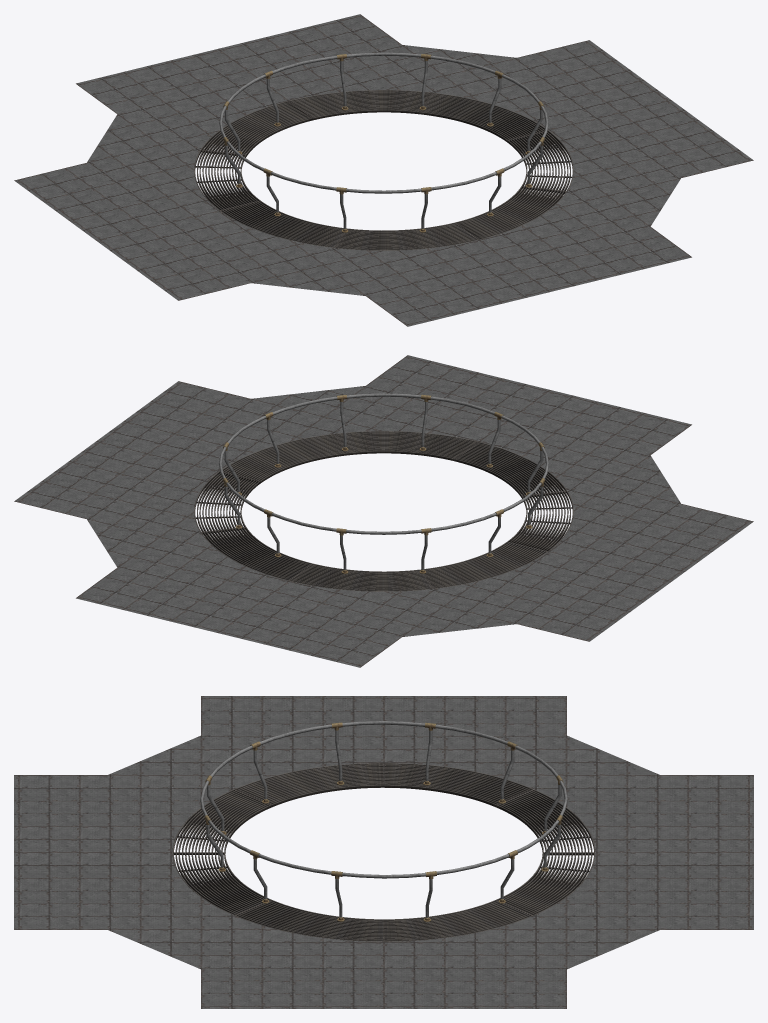
File: 04_02_reactor_room_floor.dae
The picture shows the model from 3 angles, top to bottom: view 1: azimuth 30°, elevation 25°; view 2: azimuth 150°, elevation 25°; view 3: azimuth 270°, elevation 25°; orthographic projection. The views are drawn at different scales.
Visible parts, largest first — view 1: pPlane1, polySurface381, polySurface286; view 2: pPlane1, polySurface381, polySurface286; view 3: pPlane1, polySurface381, polySurface286.
Part boxes in pixels (x1,y1,x2,y2): pPlane1: [14, 14, 753, 326]; polySurface381: [194, 90, 573, 250]; polySurface286: [219, 52, 548, 232]; pPlane1: [14, 355, 753, 667]; polySurface381: [194, 431, 573, 591]; polySurface286: [219, 393, 548, 573]; pPlane1: [14, 696, 753, 1008]; polySurface381: [172, 763, 595, 941]; polySurface286: [200, 721, 567, 921].
Size of the model in its own units: 14 by 1.2 by 14.
